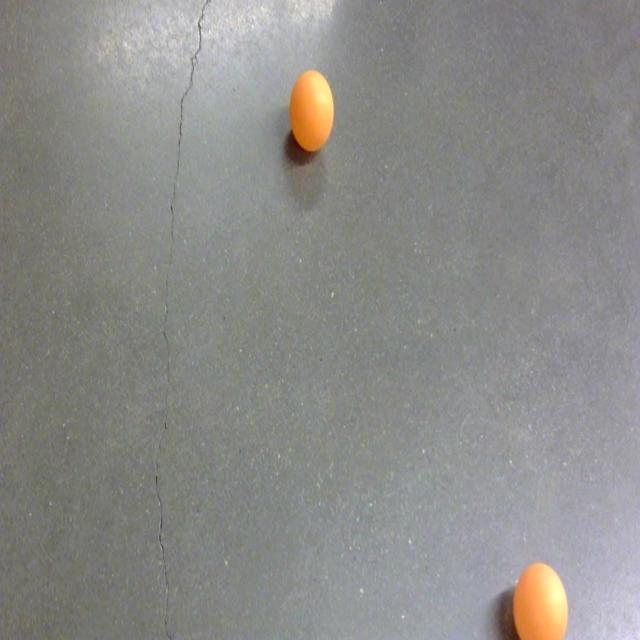ball: (511, 559, 571, 640), (288, 64, 336, 156)
